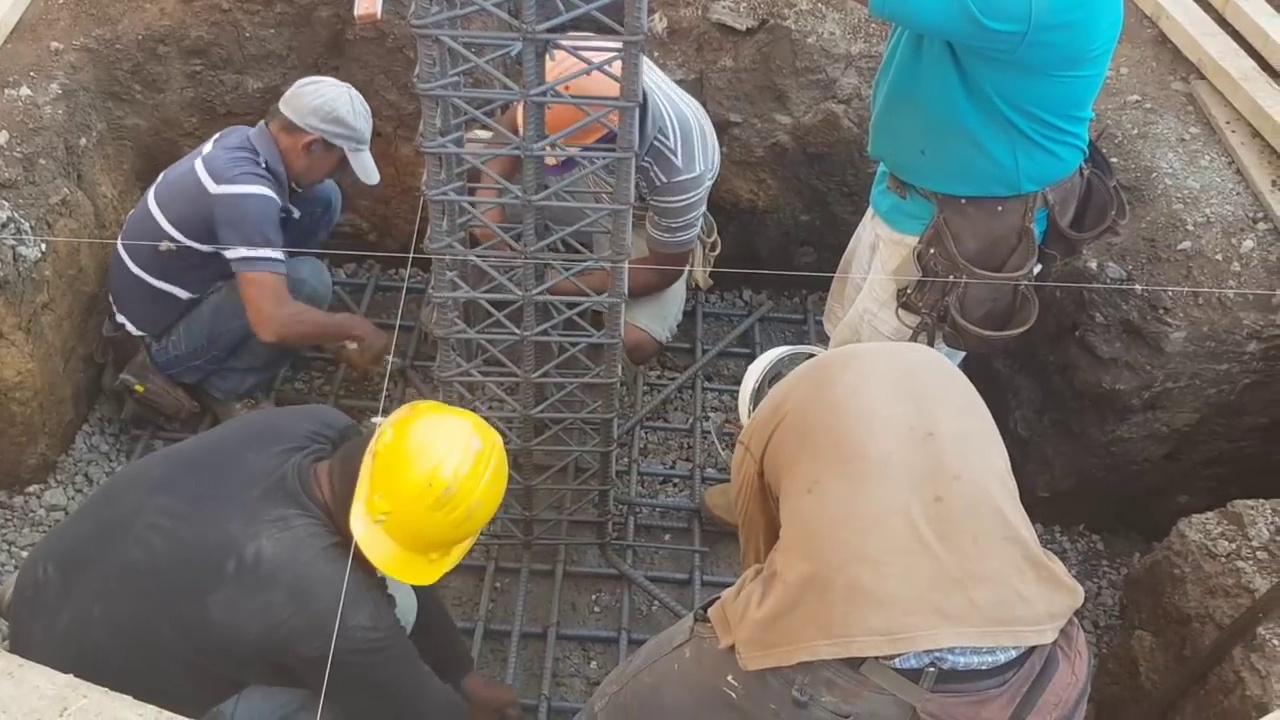helmet: (349, 404, 511, 587), (517, 34, 624, 168), (736, 342, 822, 429)
helmet-off: (257, 70, 383, 191)
helmet-on: (298, 402, 517, 587), (518, 34, 650, 171), (734, 336, 830, 431)
person: (570, 342, 1094, 720), (10, 399, 558, 720), (825, 0, 1125, 343), (104, 74, 382, 422), (471, 34, 721, 358)
